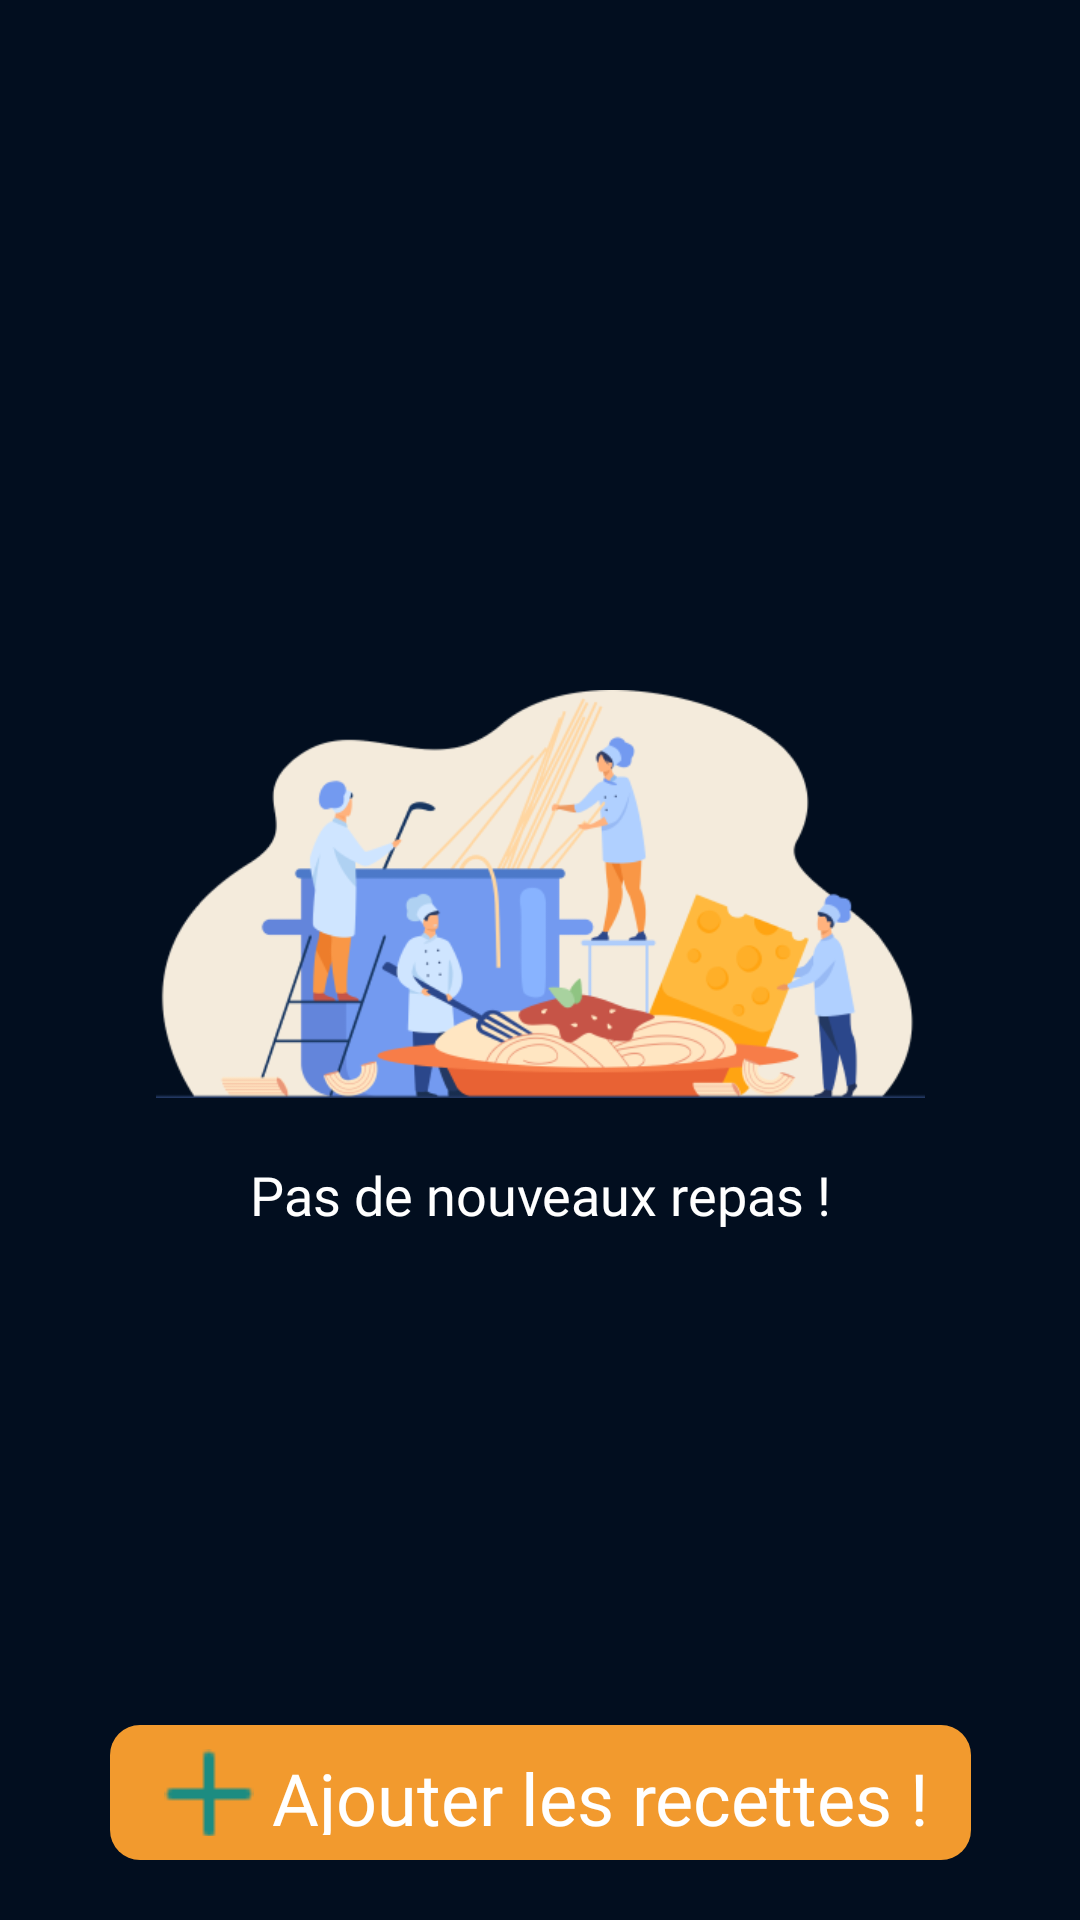

Named icons in this screenshot (1080w x 1920h) and their centers, (x,y):
plus bleu canard: (209,1792)
